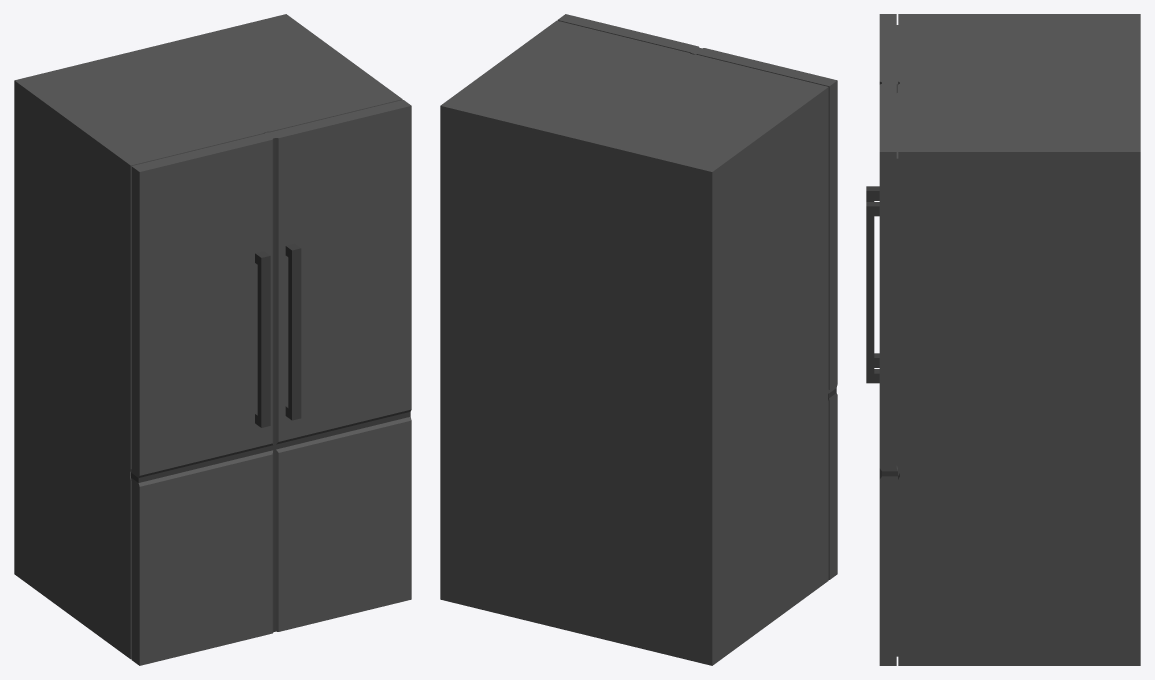
The model's file is Kühlschrank.fbx.
3 views of the same model, side by side, from view 1: azimuth 30°, elevation 25°; view 2: azimuth 150°, elevation 25°; view 3: azimuth 270°, elevation 25° (orthographic). The views are drawn at different scales.
Visible parts, largest first — view 1: Cube.013; view 2: Cube.013; view 3: Cube.013.
Part boxes in pixels (x1,y1,x2,y2): Cube.013: [14, 14, 411, 665]; Cube.013: [440, 14, 837, 665]; Cube.013: [866, 14, 1140, 665].
Bounding box in the file's own units: 187 × 324 × 157.
